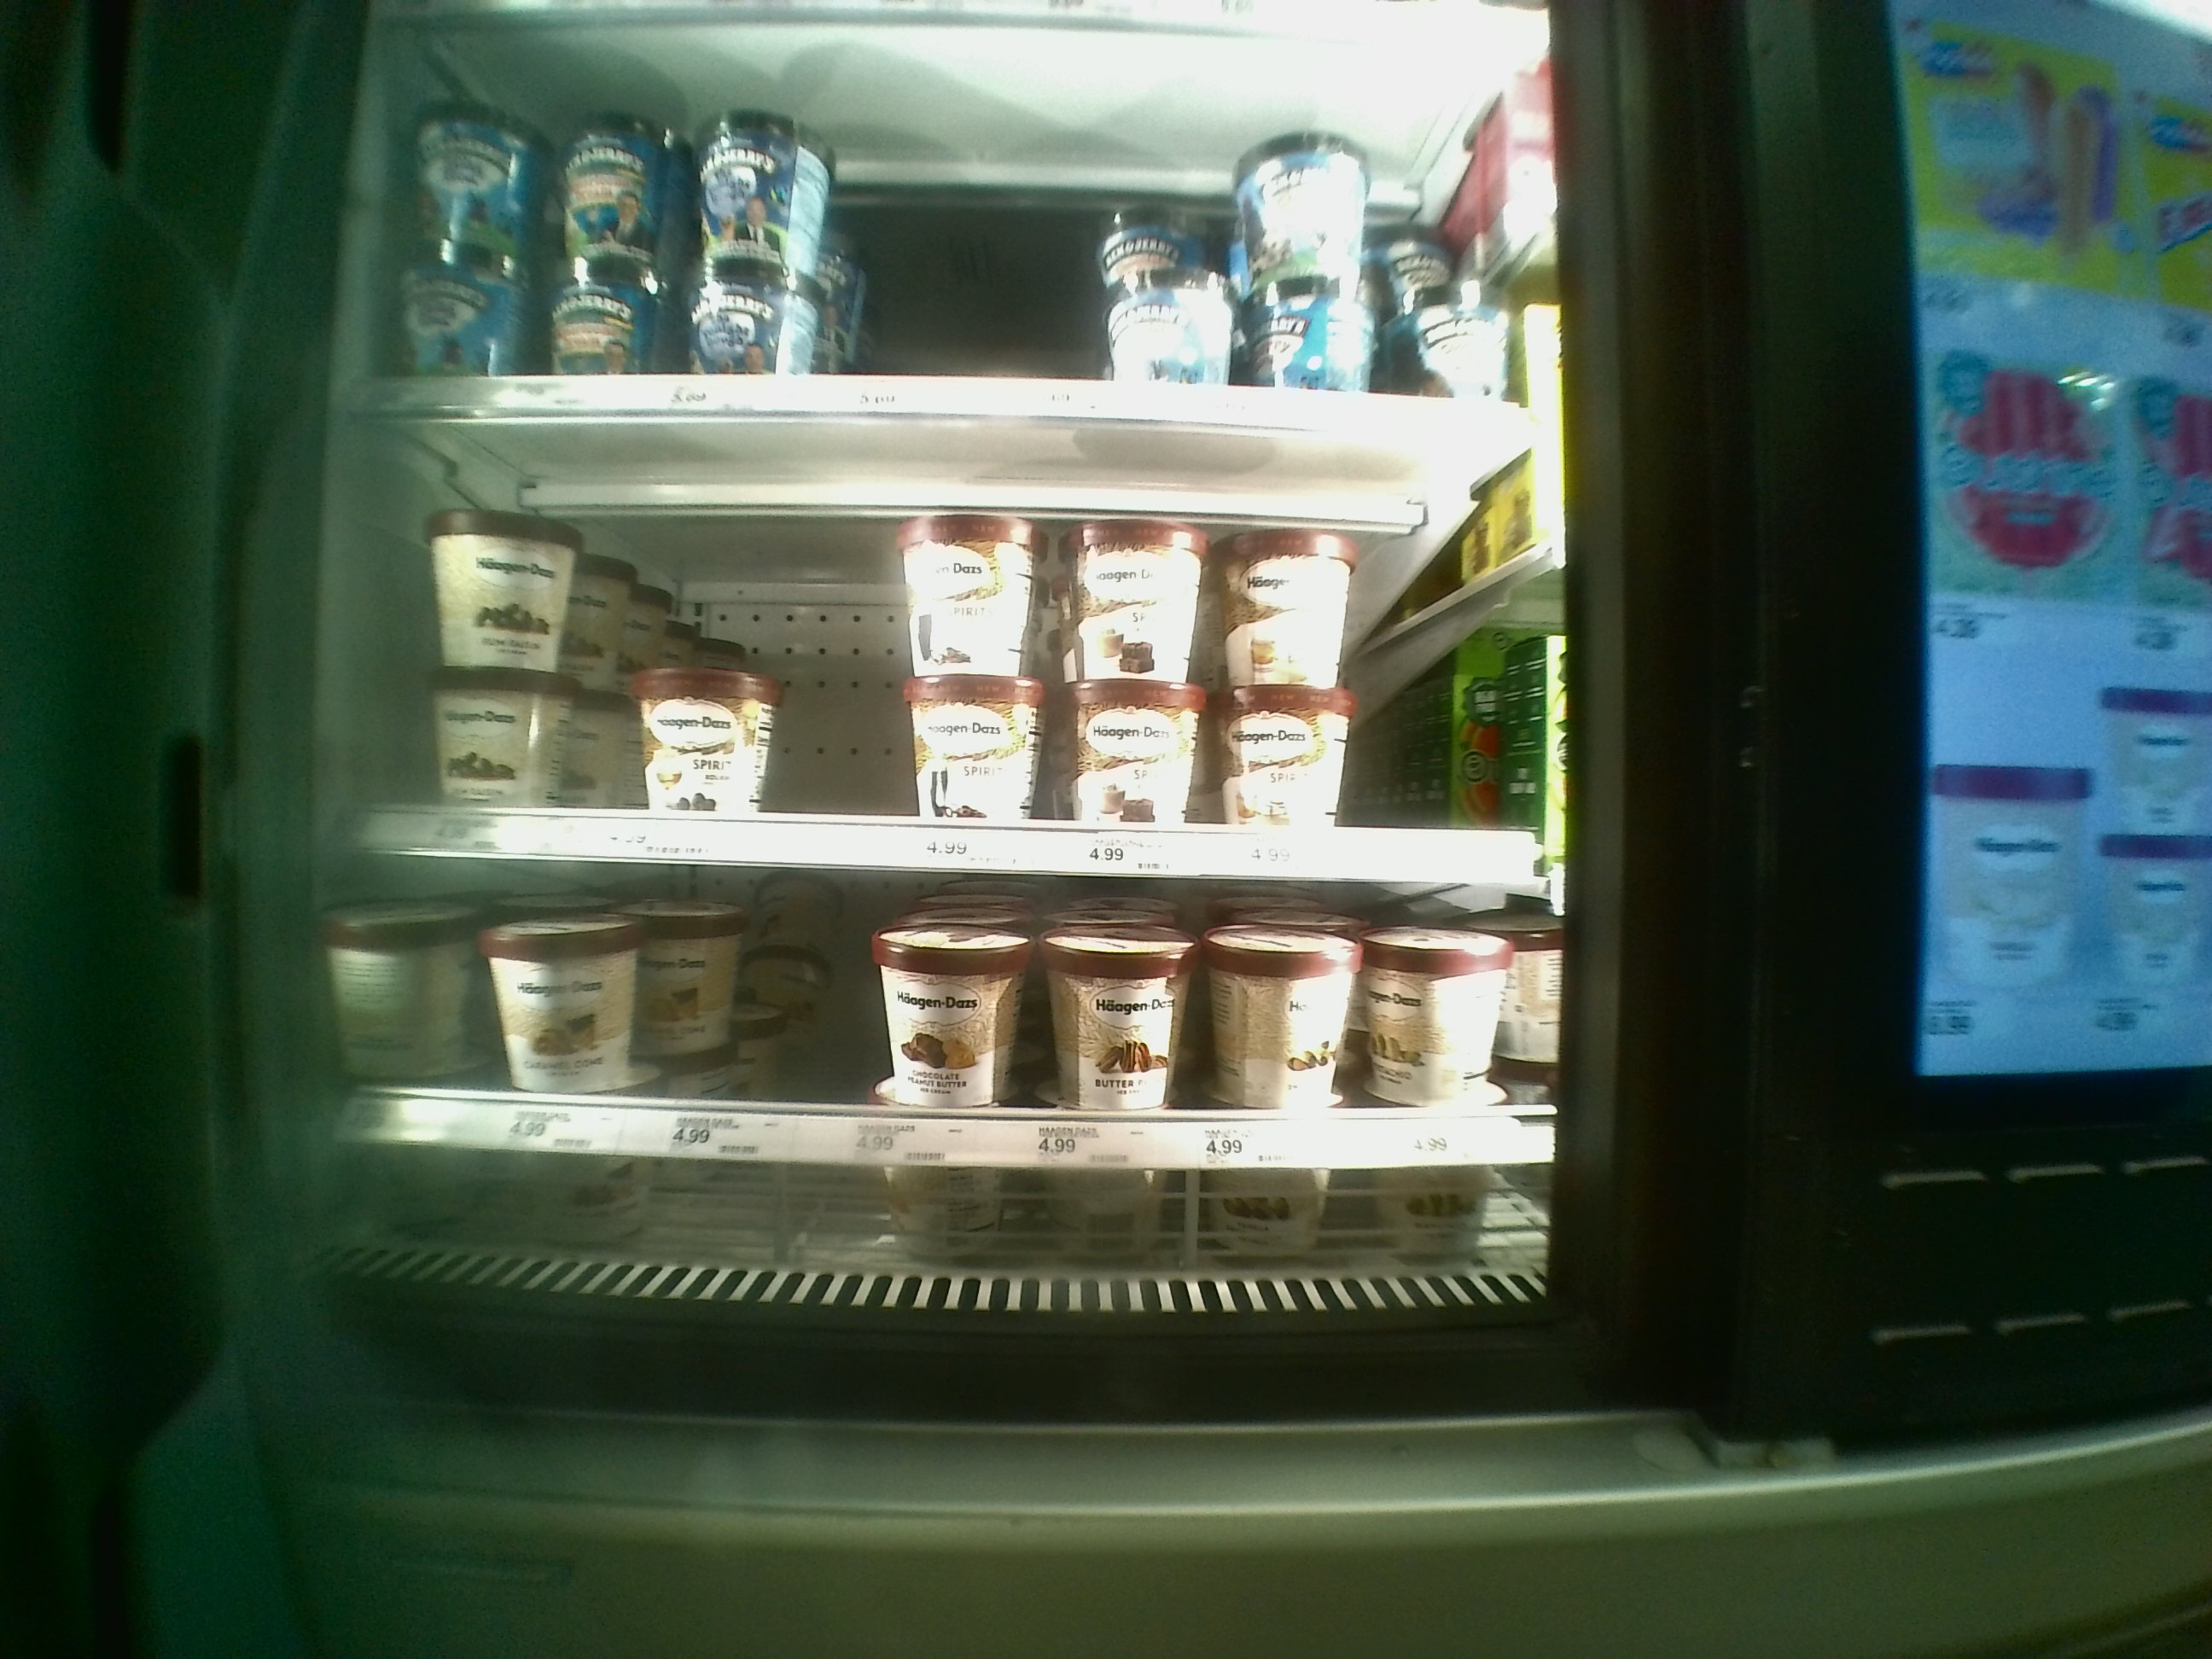shelf: (340, 416, 1564, 864), (336, 857, 1550, 1202)
